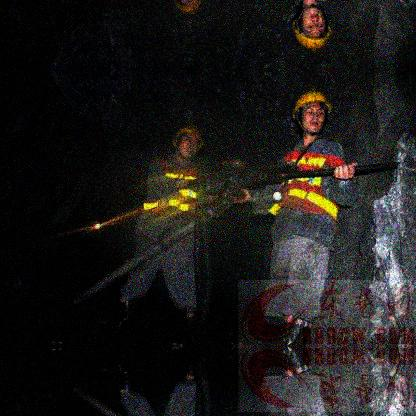helmet: (292, 87, 334, 134), (293, 8, 333, 53), (173, 126, 205, 160)
